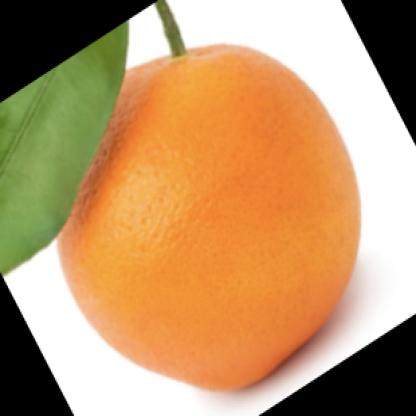fresh: (55, 44, 360, 391)
